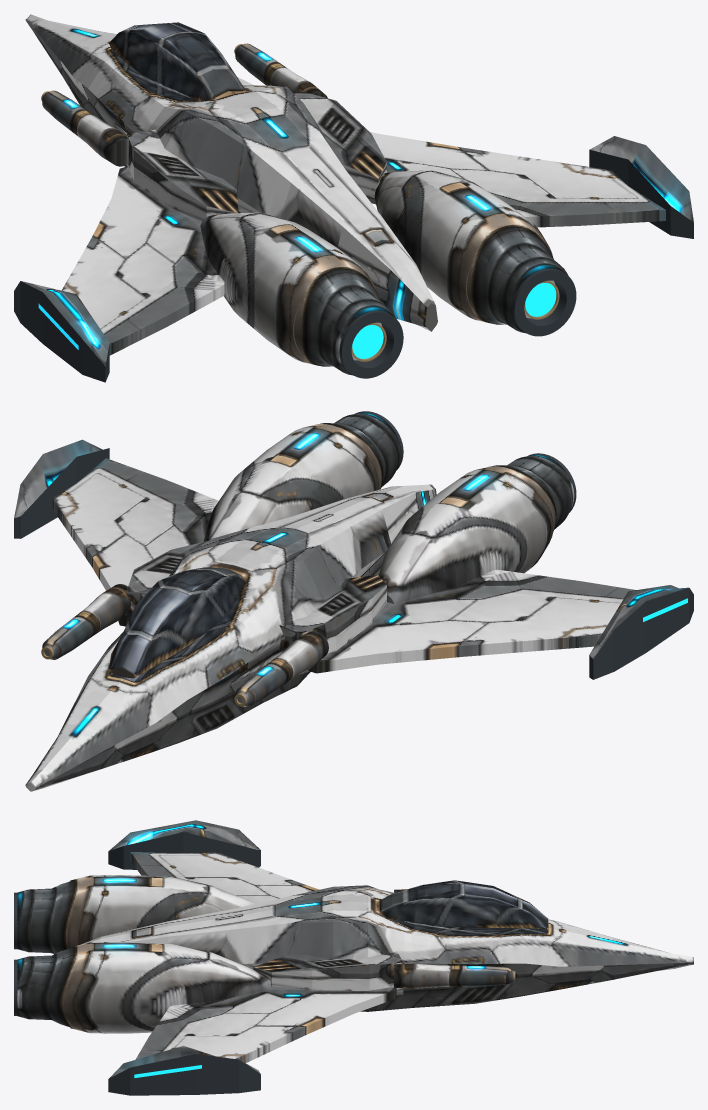
File: interceptor.glb
The picture shows the model from 3 angles, top to bottom: view 1: azimuth 30°, elevation 25°; view 2: azimuth 150°, elevation 25°; view 3: azimuth 270°, elevation 25°; orthographic projection. The views are drawn at different scales.
Parts seen in each view (by area): view 1: 01 Fuselage | continuous faceted pressure hull, 03 Port | swept split-delta wing, 03 Starboard | swept split-delta wing, 07 Port | sculpted engine fairing, 07 Starboard | sculpted engine fairing, 02 Cockpit | smoked canopy and painted frames, 05 Port | vertical wingtip endplate, 04 Port | raised root armor, 08 Port | nozzle jacket, 08 Starboard | nozzle jacket, 05 Starboard | vertical wingtip endplate, 04 Starboard | raised root armor (+8 smaller); view 2: 01 Fuselage | continuous faceted pressure hull, 03 Port | swept split-delta wing, 07 Port | sculpted engine fairing, 03 Starboard | swept split-delta wing, 07 Starboard | sculpted engine fairing, 02 Cockpit | smoked canopy and painted frames, 05 Port | vertical wingtip endplate, 04 Port | raised root armor, 05 Starboard | vertical wingtip endplate, 14 Port | forward weapon housing, 14 Starboard | forward weapon housing, 08 Port | nozzle jacket (+2 smaller); view 3: 01 Fuselage | continuous faceted pressure hull, 07 Starboard | sculpted engine fairing, 03 Starboard | swept split-delta wing, 07 Port | sculpted engine fairing, 02 Cockpit | smoked canopy and painted frames, 05 Starboard | vertical wingtip endplate, 03 Port | swept split-delta wing, 04 Starboard | raised root armor, 05 Port | vertical wingtip endplate, 08 Starboard | nozzle jacket, 08 Port | nozzle jacket, 14 Starboard | forward weapon housing.
Part boxes in pixels (box(x1,y1,x2,y2)): 01 Fuselage | continuous faceted pressure hull: box(25, 14, 437, 331); 03 Port | swept split-delta wing: box(61, 166, 224, 355); 03 Starboard | swept split-delta wing: box(370, 132, 665, 227); 07 Port | sculpted engine fairing: box(200, 212, 379, 366); 07 Starboard | sculpted engine fairing: box(374, 170, 552, 324); 02 Cockpit | smoked canopy and painted frames: box(109, 22, 246, 100); 05 Port | vertical wingtip endplate: box(14, 281, 109, 382); 04 Port | raised root armor: box(126, 129, 238, 221); 08 Port | nozzle jacket: box(294, 273, 395, 375); 08 Starboard | nozzle jacket: box(467, 231, 568, 333); 05 Starboard | vertical wingtip endplate: box(589, 136, 693, 238); 04 Starboard | raised root armor: box(294, 91, 386, 204); 01 Fuselage | continuous faceted pressure hull: box(25, 484, 436, 791); 03 Port | swept split-delta wing: box(308, 569, 635, 673); 07 Port | sculpted engine fairing: box(378, 465, 554, 603); 03 Starboard | swept split-delta wing: box(52, 458, 218, 626); 07 Starboard | sculpted engine fairing: box(203, 423, 381, 541); 02 Cockpit | smoked canopy and painted frames: box(109, 567, 245, 678); 05 Port | vertical wingtip endplate: box(589, 585, 693, 679); 04 Port | raised root armor: box(279, 575, 386, 674); 05 Starboard | vertical wingtip endplate: box(14, 439, 109, 538); 14 Port | forward weapon housing: box(235, 631, 328, 706); 14 Starboard | forward weapon housing: box(42, 584, 130, 659); 08 Port | nozzle jacket: box(505, 455, 574, 531); 01 Fuselage | continuous faceted pressure hull: box(80, 885, 693, 1011); 07 Starboard | sculpted engine fairing: box(70, 942, 270, 1033); 03 Starboard | swept split-delta wing: box(135, 986, 396, 1063); 07 Port | sculpted engine fairing: box(70, 875, 255, 947); 02 Cockpit | smoked canopy and painted frames: box(376, 880, 548, 929); 05 Starboard | vertical wingtip endplate: box(108, 1045, 260, 1095); 03 Port | swept split-delta wing: box(130, 852, 318, 903); 04 Starboard | raised root armor: box(253, 951, 403, 995); 05 Port | vertical wingtip endplate: box(108, 820, 260, 869); 08 Starboard | nozzle jacket: box(17, 948, 70, 1026); 08 Port | nozzle jacket: box(17, 881, 70, 954); 14 Starboard | forward weapon housing: box(394, 963, 513, 988).
Size of the model in its own units: 11.04 by 2.39 by 13.45.
6 materials, 2 textured.
